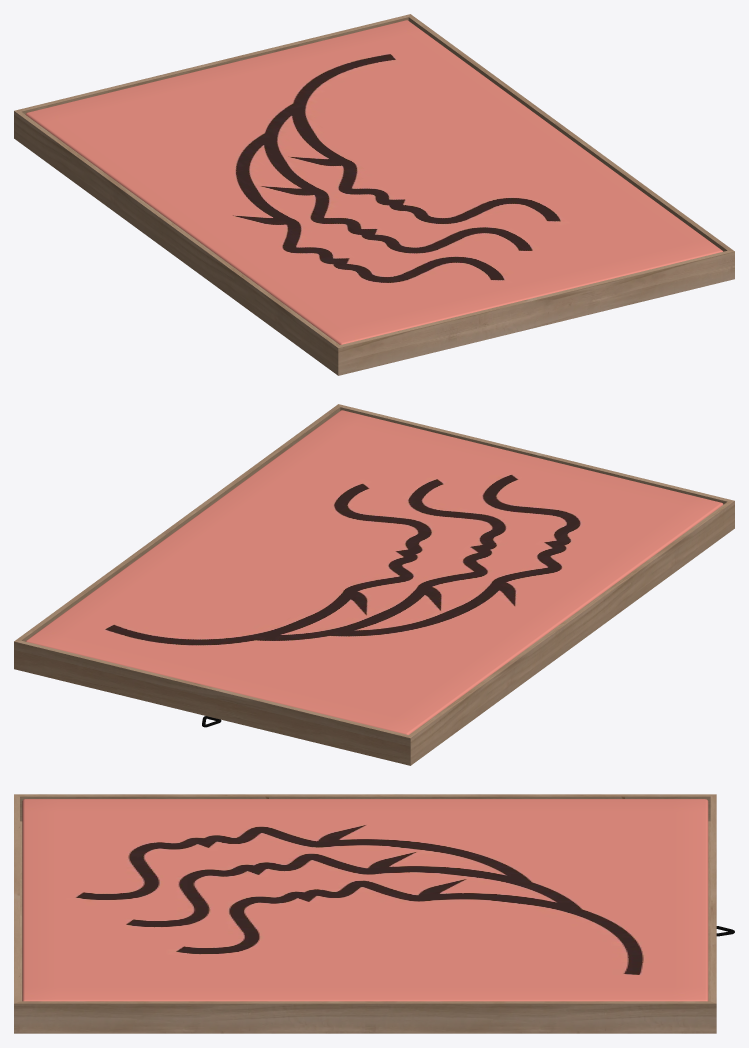
Rendered from artwork_canvas.glb.
3 views of the same model, one above another, from view 1: azimuth 30°, elevation 25°; view 2: azimuth 150°, elevation 25°; view 3: azimuth 270°, elevation 25° (orthographic). The views are drawn at different scales.
Visible parts, largest first — view 1: Canvas.003; view 2: Canvas.003; view 3: Canvas.003.
Boxes of the visible parts, x1,y1,x2,y2 form: Canvas.003: (14,14,734,375); Canvas.003: (14,404,734,765); Canvas.003: (14,794,734,1033).
Bounding box in the file's own units: 0.5999 × 0.0457 × 0.8722.
Materials: 5 (3 with a texture image).
